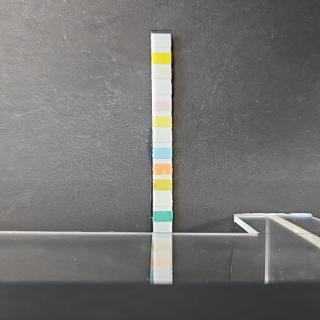mark: (152, 51, 171, 65), (153, 162, 171, 175), (153, 115, 171, 128), (152, 35, 170, 48), (152, 99, 171, 111), (153, 210, 171, 222), (153, 130, 171, 142), (152, 84, 171, 95), (154, 146, 171, 158), (153, 68, 170, 80), (154, 179, 171, 190), (153, 196, 171, 206)
